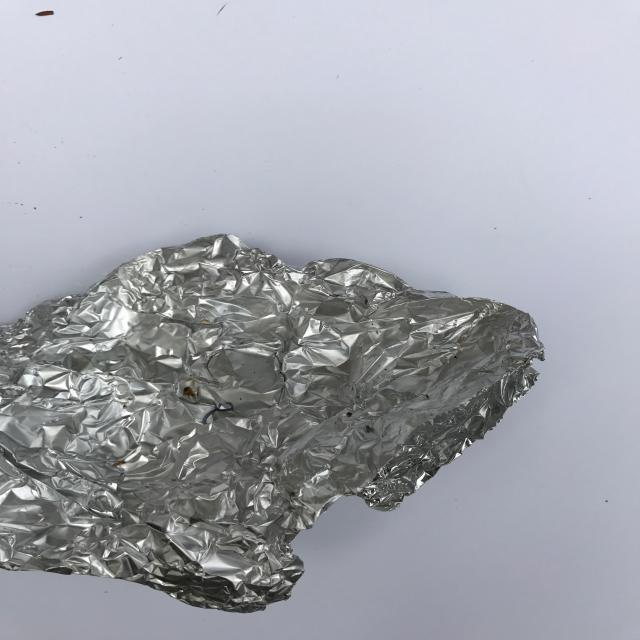metal: (4, 230, 544, 614)
